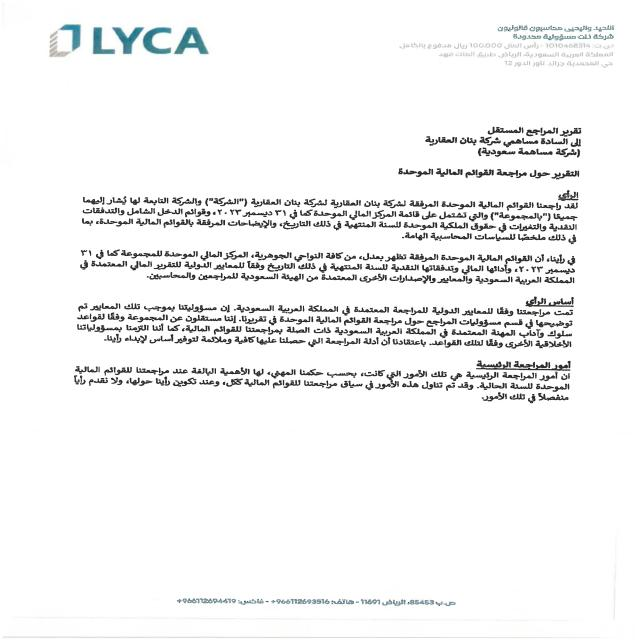auditor_report: (482, 123, 592, 136)
